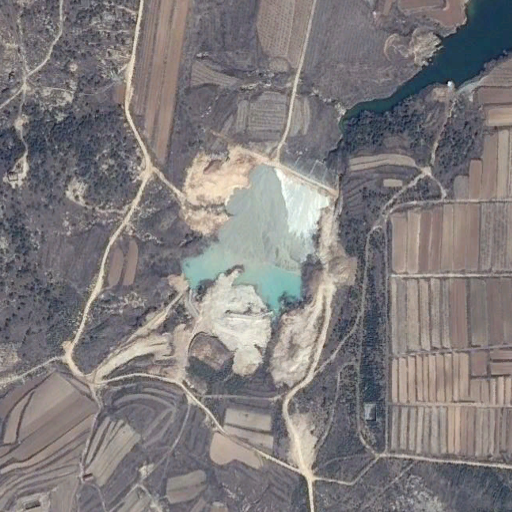tp: (183, 151, 339, 323)
